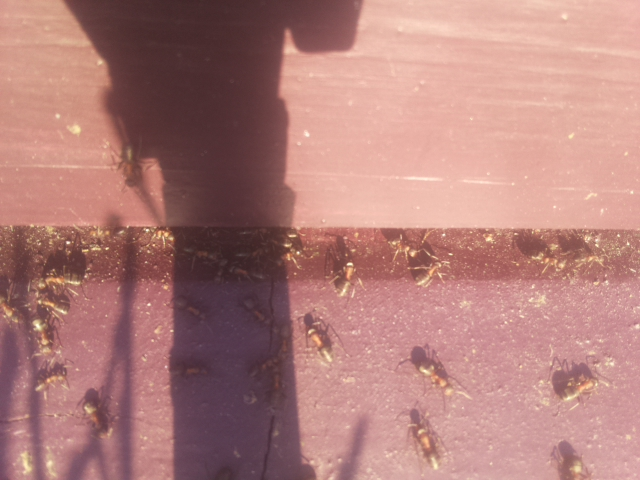ant: (101, 136, 174, 225), (403, 340, 463, 407), (399, 402, 449, 479), (228, 285, 287, 342), (298, 308, 338, 373), (75, 387, 114, 448), (551, 432, 595, 480), (164, 291, 213, 324), (34, 360, 70, 399), (29, 312, 58, 359), (333, 257, 362, 300), (560, 374, 601, 403), (415, 259, 443, 287)
